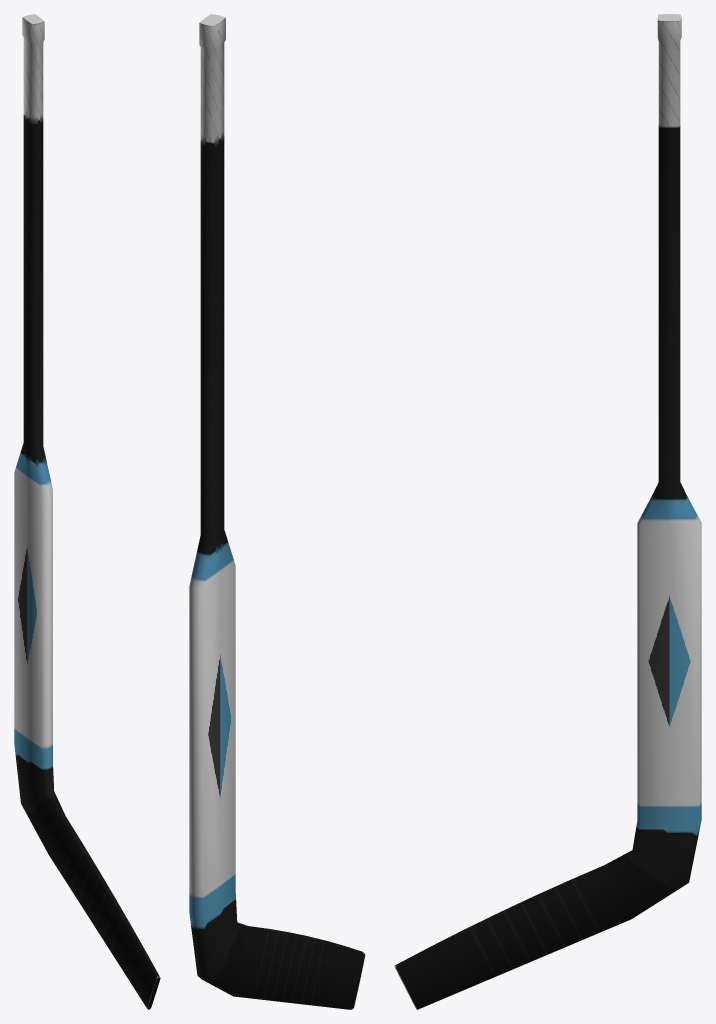
Rendered from crosse-gardien.glb.
The picture shows the model from 3 angles, left to right: view 1: azimuth 30°, elevation 25°; view 2: azimuth 150°, elevation 25°; view 3: azimuth 270°, elevation 25°; orthographic projection. The views are drawn at different scales.
Parts seen in each view (by area): view 1: Crosse_Gardien; view 2: Crosse_Gardien; view 3: Crosse_Gardien.
Part boxes in pixels (x1,y1,x2,y2): Crosse_Gardien: (14,14,160,1009); Crosse_Gardien: (189,14,365,1009); Crosse_Gardien: (394,14,701,1009).
Size of the model in its own units: 0.023 by 1.5 by 0.4215.
Materials: 1 (1 with a texture image).
